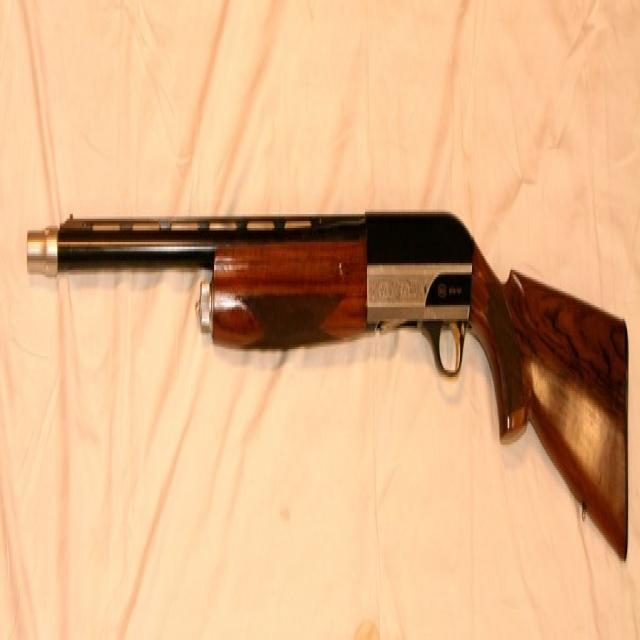weapon: (28, 207, 630, 554)
